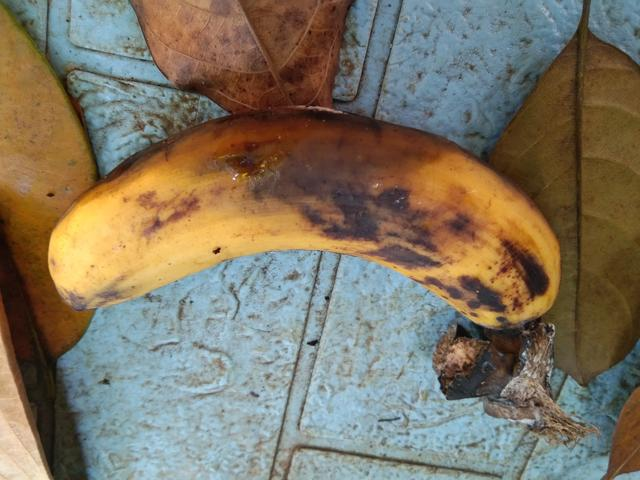rotten: (26, 98, 572, 396)
